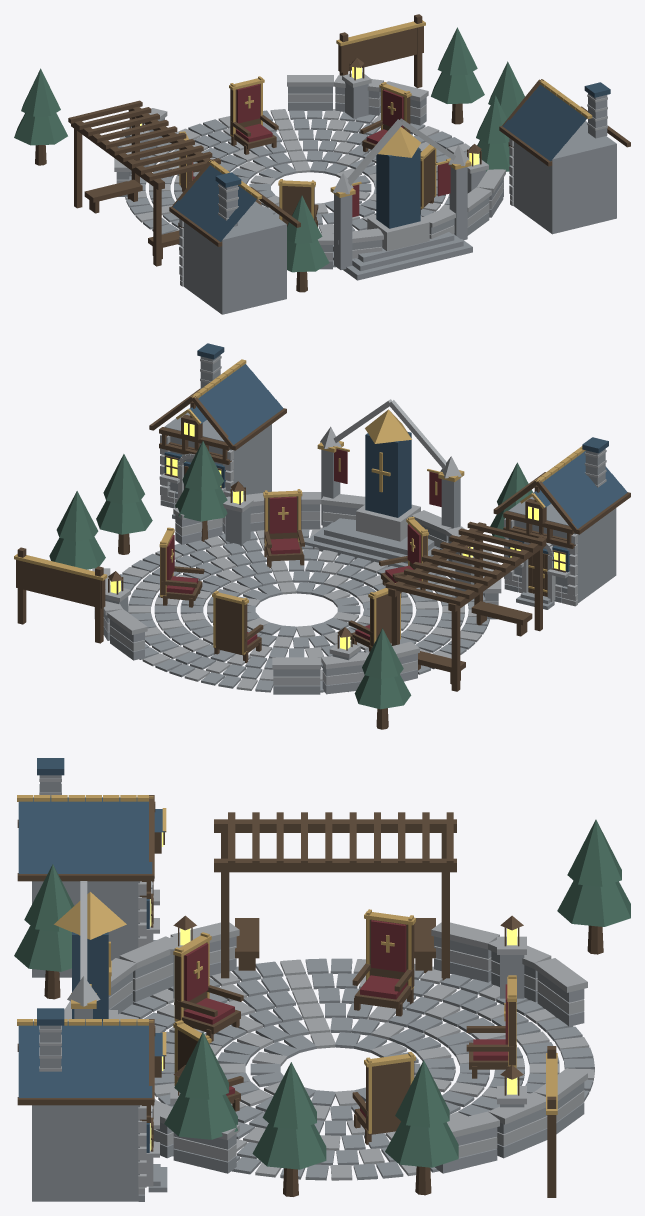
File: moonlit-courtyard.glb
The picture shows the model from 3 angles, top to bottom: view 1: azimuth 30°, elevation 25°; view 2: azimuth 150°, elevation 25°; view 3: azimuth 270°, elevation 25°; orthographic projection. The views are drawn at different scales.
Parts seen in each view (by area): view 1: Courtyard visual; view 2: Courtyard visual; view 3: Courtyard visual.
Part boxes in pixels (x1,y1,x2,y2): Courtyard visual: (14, 14, 630, 314); Courtyard visual: (14, 343, 630, 729); Courtyard visual: (14, 758, 630, 1201).
Size of what is drawn, in the model's own units: 15 by 4.74 by 13.97.
